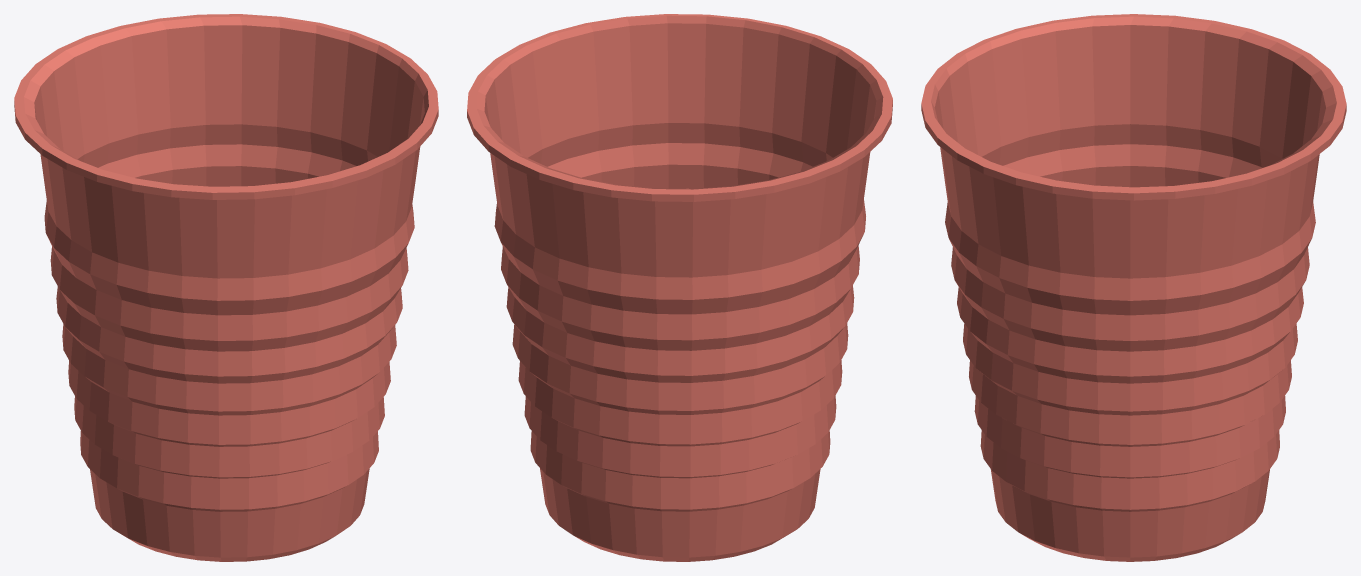
File: copo.fbx
3 views of the same model, side by side, from view 1: azimuth 30°, elevation 25°; view 2: azimuth 150°, elevation 25°; view 3: azimuth 270°, elevation 25° (orthographic).
Visible parts, largest first — view 1: Circle; view 2: Circle; view 3: Circle.
Part boxes in pixels (x1,y1,x2,y2): Circle: (14, 14, 438, 561); Circle: (467, 14, 892, 561); Circle: (921, 14, 1346, 561).
Bounding box in the file's own units: 53.78 × 57.11 × 53.78.
